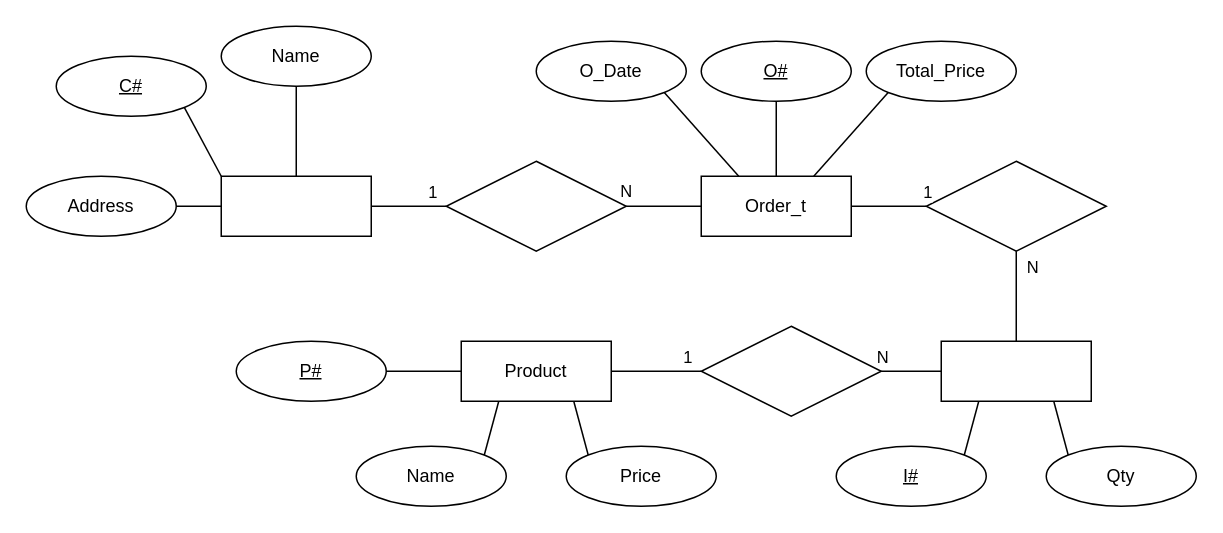
This 1223x533 diagram has some shape labels left out. The shapes that lost their labels are listed below. From the top down, each one's centre as x and y in pixels, then its label:
At pixel 295 205: "Customer".
At pixel 535 205: "Places".
At pixel 1015 205: "Contains".
At pixel 790 370: "References".
At pixel 1015 370: "Line_Item".
